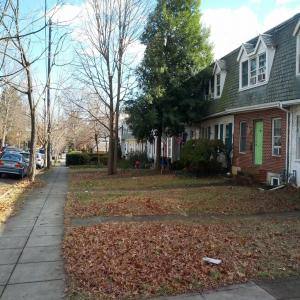Vehicle-registration-plate: (8, 164, 13, 167)
